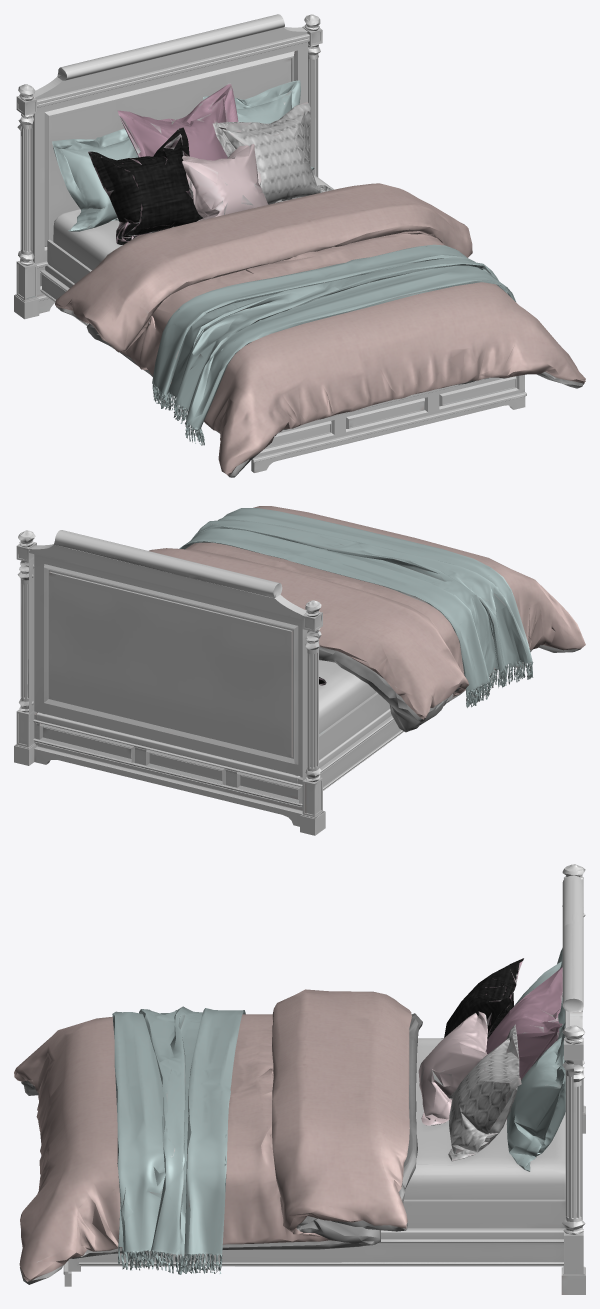
File: raw_model.obj
3 views of the same model, one above another, from view 1: azimuth 30°, elevation 25°; view 2: azimuth 150°, elevation 25°; view 3: azimuth 270°, elevation 25° (orthographic). The views are drawn at different scales.
Visible parts, largest first — view 1: solid_009, solid_008, solid_006, solid_001, solid_003, solid_004, solid_002, solid_005, solid_007; view 2: solid_008, solid_009, solid_006, solid_005, solid_007; view 3: solid_009, solid_006, solid_008, solid_005, solid_003, solid_007, solid_004, solid_002, solid_001.
Part boxes in pixels (<box>): solid_009: <box>55,183,585,475</box>; solid_008: <box>14,14,526,472</box>; solid_006: <box>52,80,515,445</box>; solid_001: <box>88,127,203,244</box>; solid_003: <box>212,102,332,204</box>; solid_004: <box>182,144,268,221</box>; solid_002: <box>117,83,238,198</box>; solid_005: <box>47,174,333,283</box>; solid_007: <box>55,251,584,477</box>; solid_008: <box>14,530,525,835</box>; solid_009: <box>149,506,585,719</box>; solid_006: <box>179,508,533,707</box>; solid_005: <box>42,660,390,775</box>; solid_007: <box>319,645,580,732</box>; solid_009: <box>14,989,411,1281</box>; solid_006: <box>112,948,565,1274</box>; solid_008: <box>63,864,585,1294</box>; solid_005: <box>403,1038,565,1228</box>; solid_003: <box>448,1024,521,1161</box>; solid_007: <box>20,1013,422,1284</box>; solid_004: <box>418,1011,487,1125</box>; solid_002: <box>481,967,562,1119</box>; solid_001: <box>444,958,523,1039</box>.
Size of the model in its own units: 2.95 by 1.8 by 3.4.
Materials: 1 (1 with a texture image).
